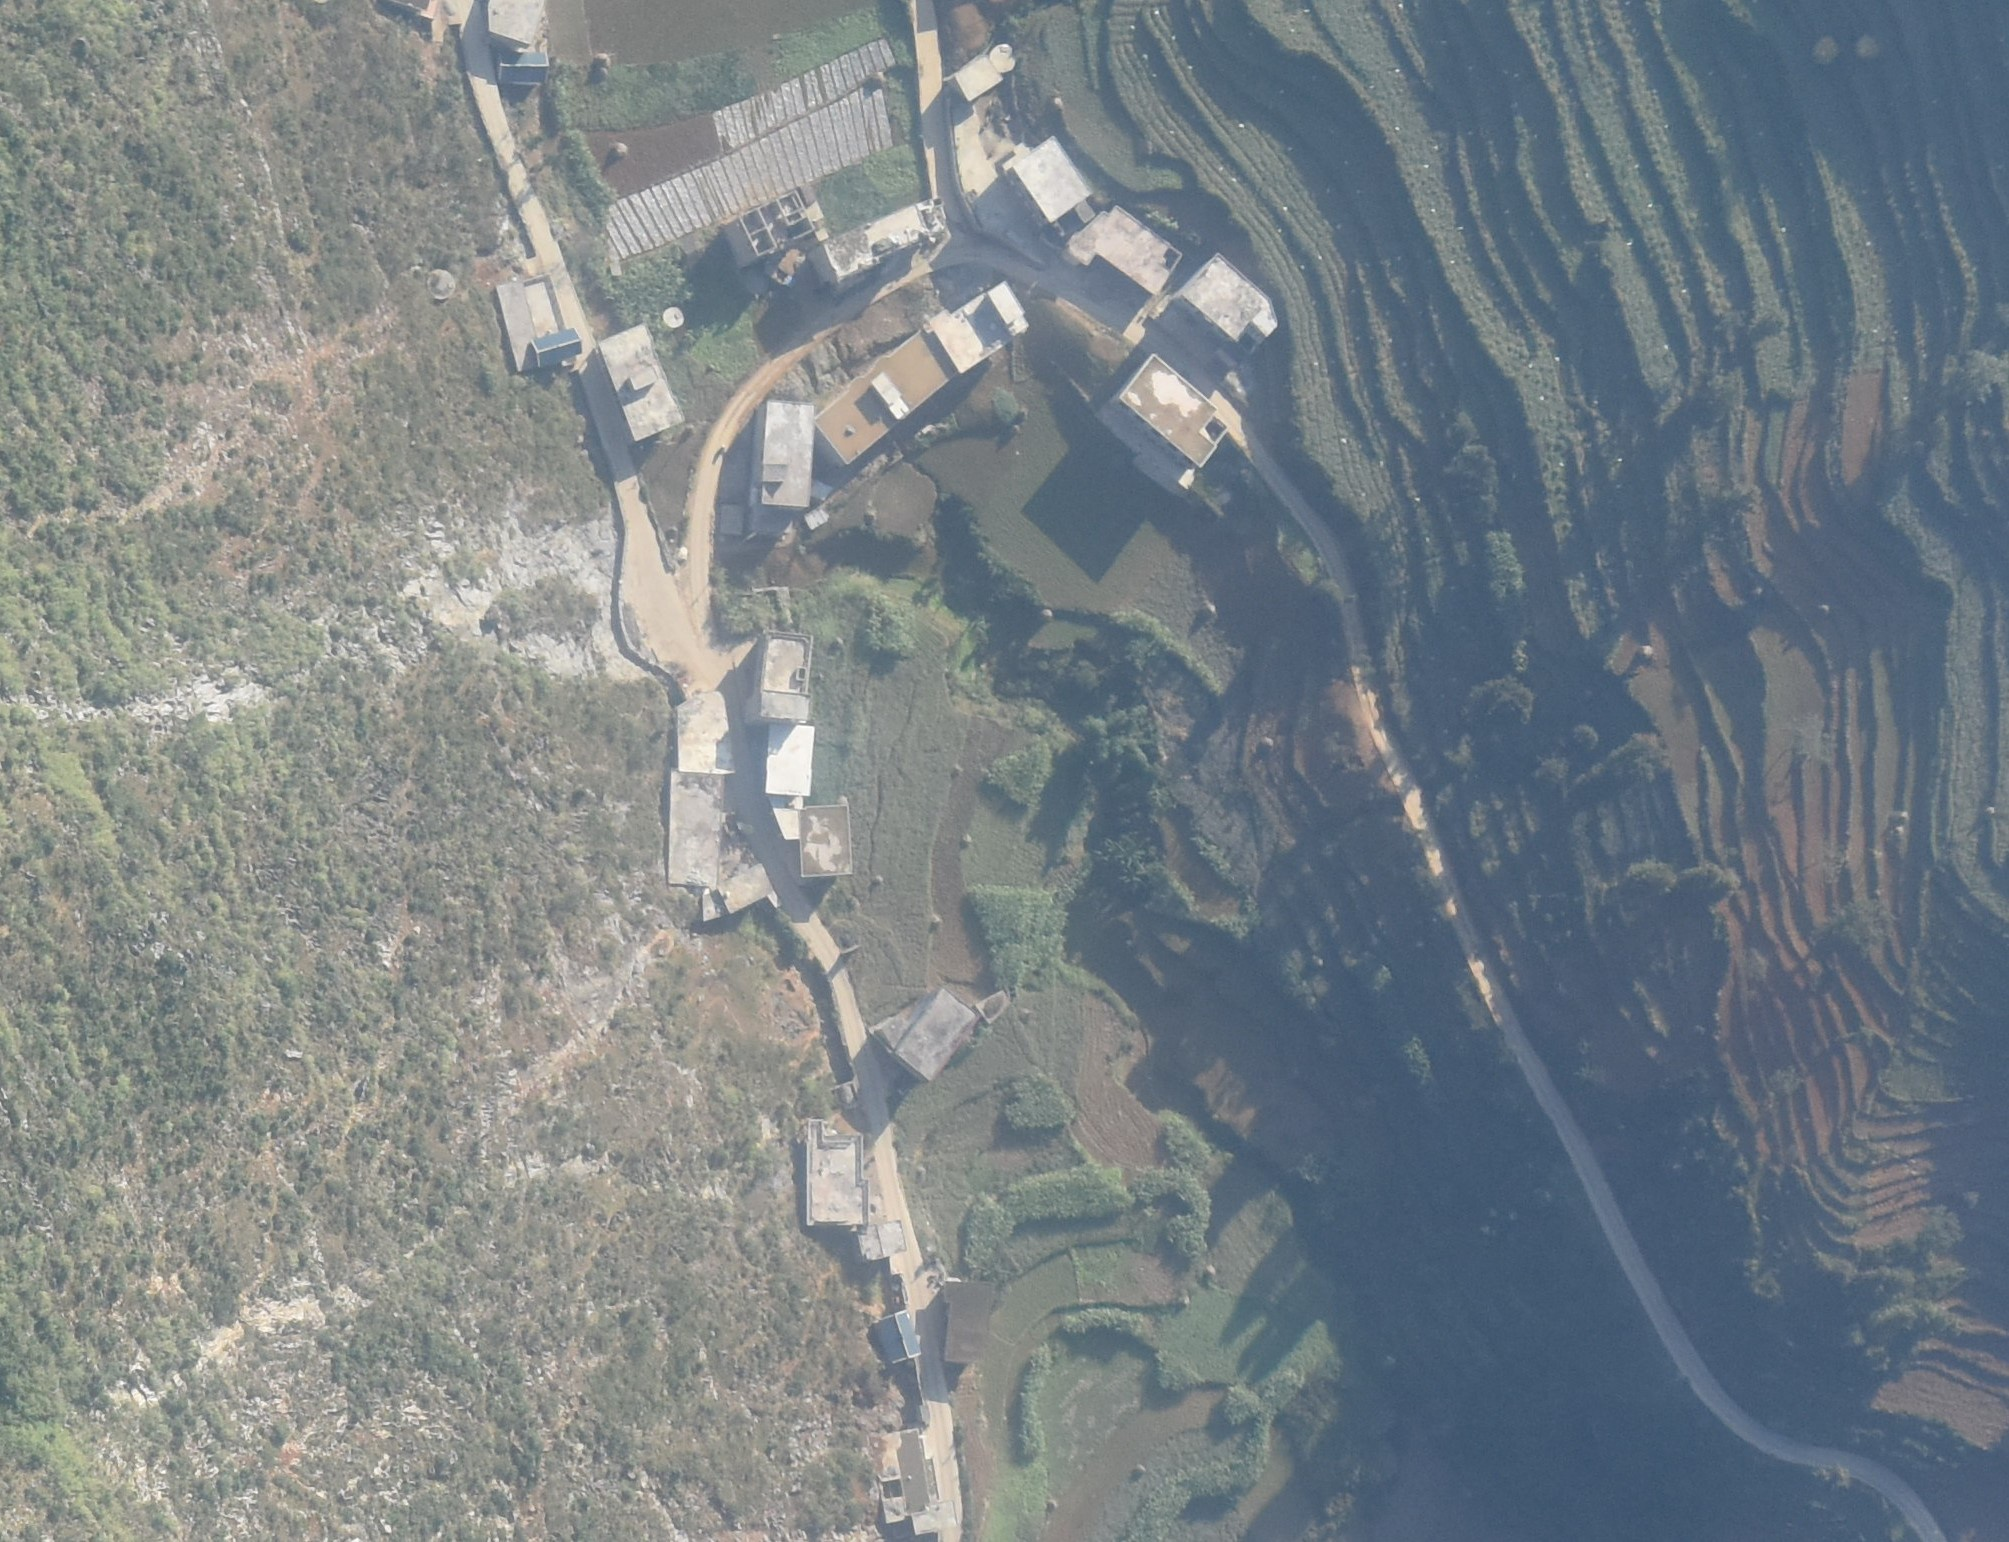building: (812, 282, 1030, 465), (668, 688, 737, 888), (1118, 353, 1228, 468), (599, 324, 685, 442), (820, 199, 949, 274), (1076, 206, 1179, 296), (877, 990, 979, 1080), (1179, 253, 1275, 342), (877, 1432, 948, 1536), (1011, 138, 1094, 220), (734, 190, 826, 261), (808, 1121, 867, 1228), (761, 402, 812, 509), (941, 1281, 996, 1364), (763, 632, 812, 722), (800, 807, 854, 875), (765, 722, 812, 797), (875, 1307, 920, 1365), (718, 863, 771, 912), (954, 53, 1003, 104), (496, 50, 552, 87), (535, 329, 586, 368), (855, 1221, 907, 1259)
well: (428, 270, 457, 300), (990, 44, 1014, 73), (663, 308, 685, 329)
